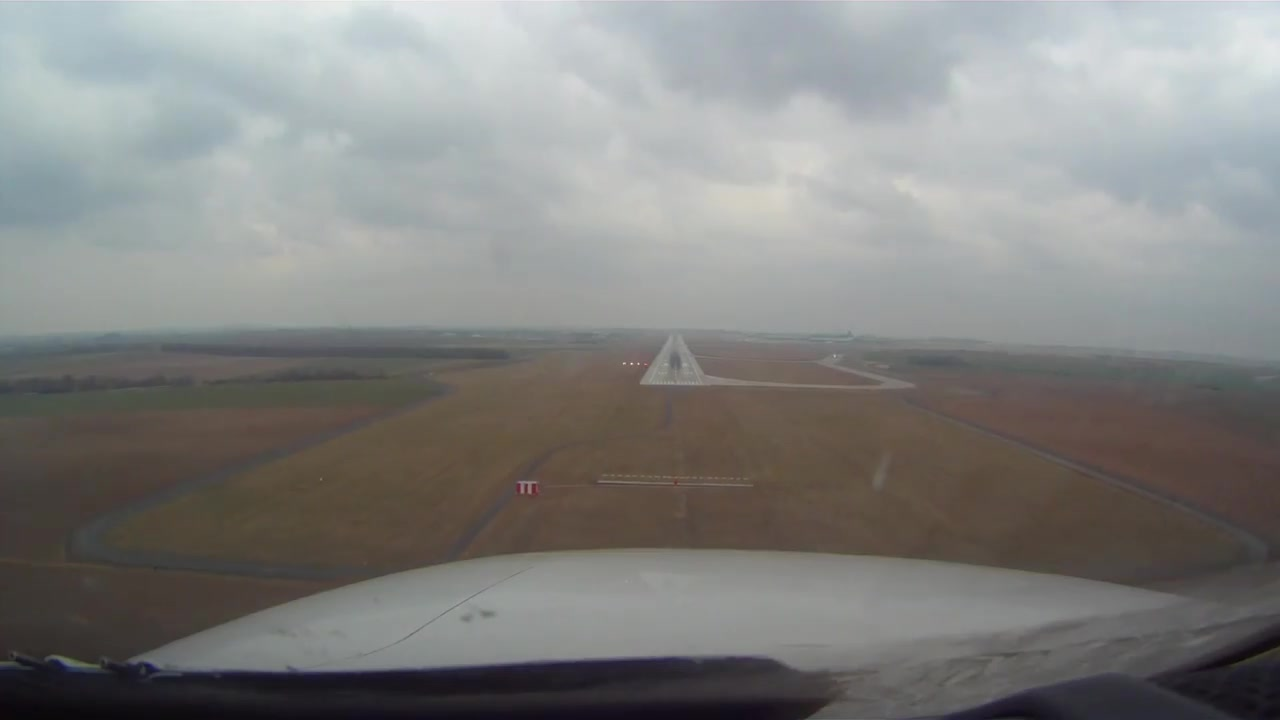entrance: (648, 380, 700, 385)
runway: (640, 335, 705, 387)
